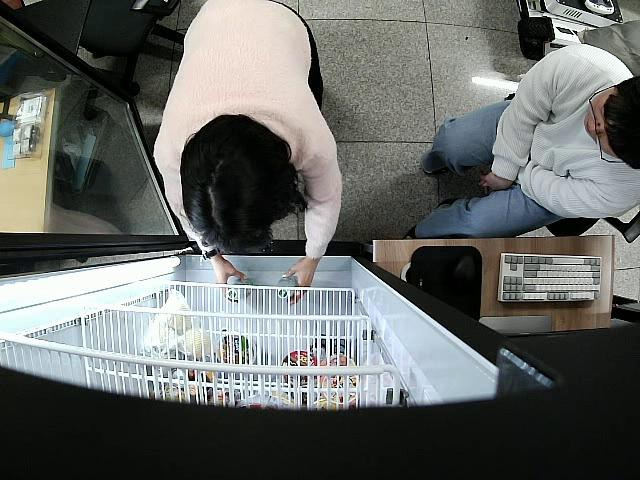00_hand: (282, 260, 318, 305), (215, 259, 251, 303)
18_trevi: (228, 280, 257, 302), (277, 277, 297, 300)
